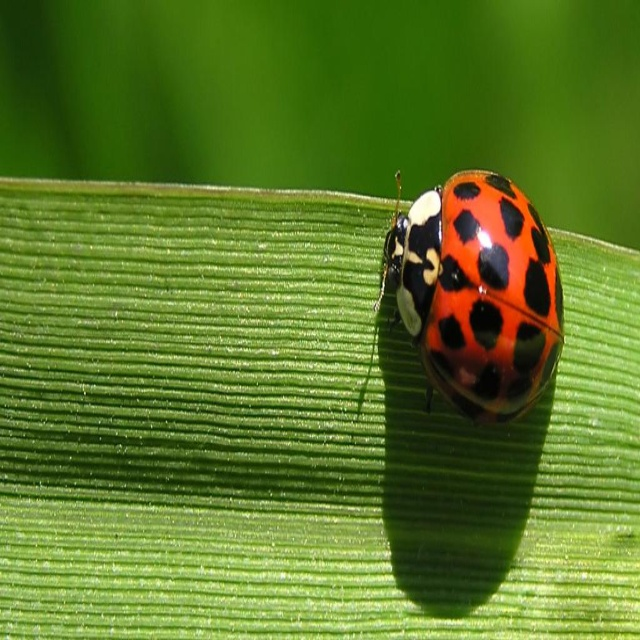Ladybug: (370, 169, 563, 421)
